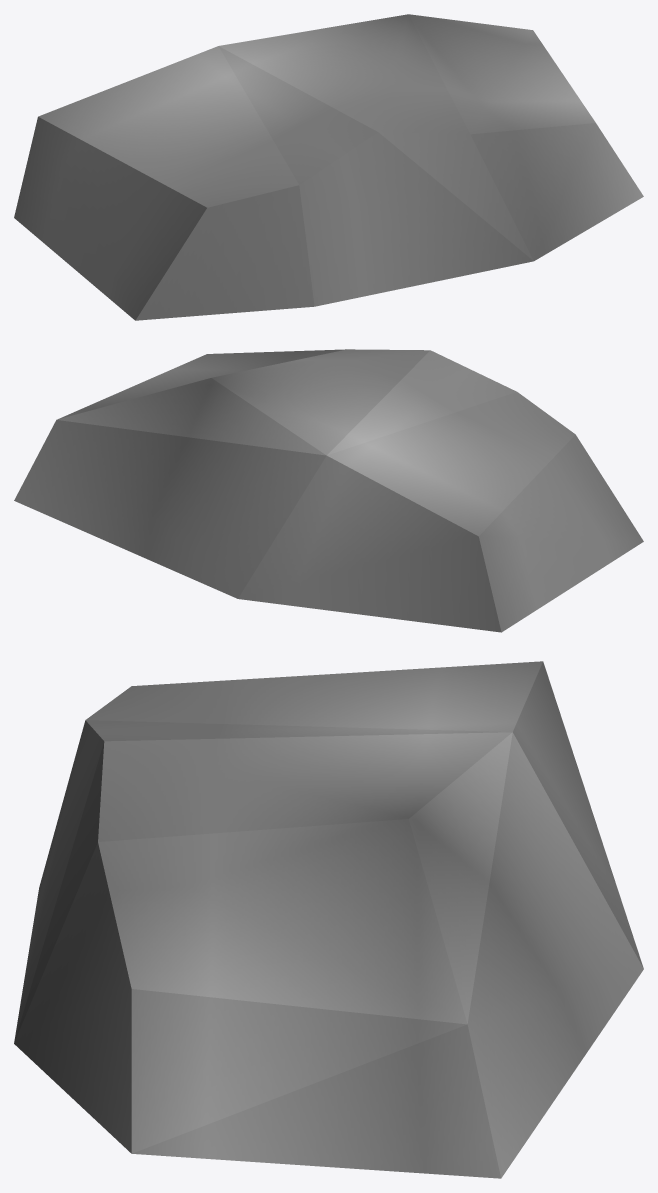
File: rock_alt_01.fbx
The picture shows the model from 3 angles, top to bottom: view 1: azimuth 30°, elevation 25°; view 2: azimuth 150°, elevation 25°; view 3: azimuth 270°, elevation 25°; orthographic projection. The views are drawn at different scales.
Parts seen in each view (by area): view 1: Cube; view 2: Cube; view 3: Cube.
Boxes of the visible parts, <box> form: Cube: <box>14,14,643,320</box>; Cube: <box>14,349,643,632</box>; Cube: <box>14,661,643,1178</box>.
Size of the model in its own units: 565 by 150 by 375.
1 material, 1 textured.
